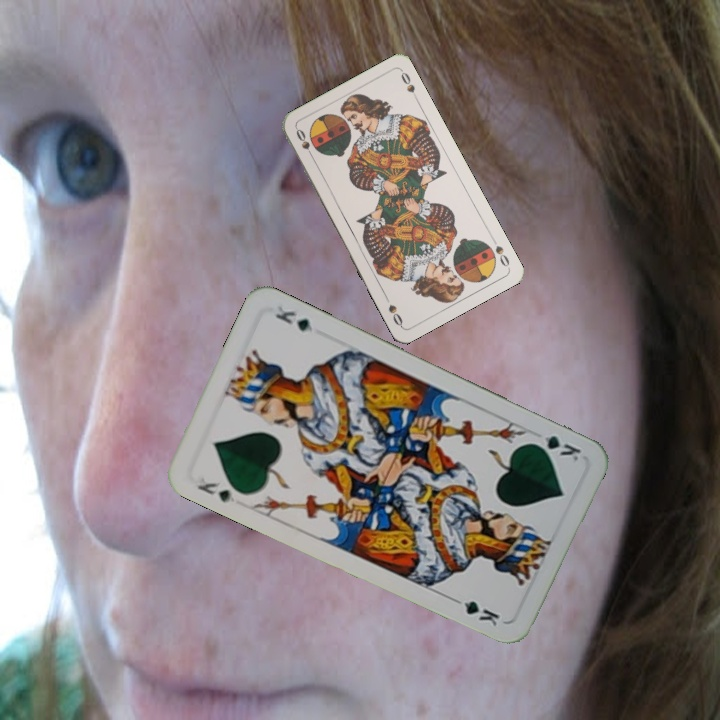GK: (526, 431, 584, 464), (192, 473, 239, 505)
SO: (292, 124, 317, 162), (487, 233, 512, 270)
